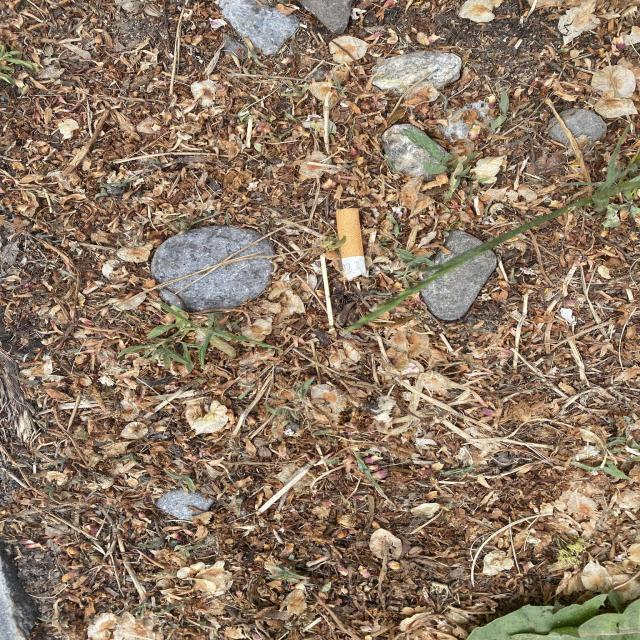other waste: (336, 208, 366, 282)
